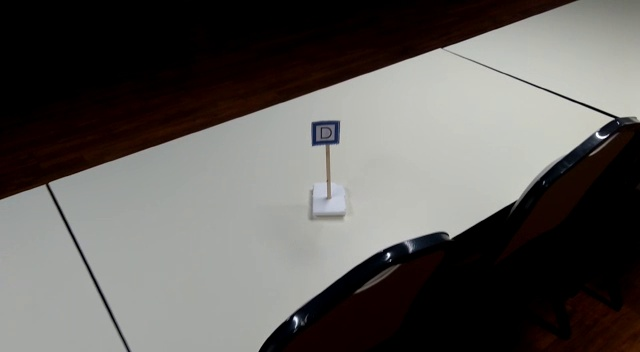durak: (312, 119, 340, 146)
